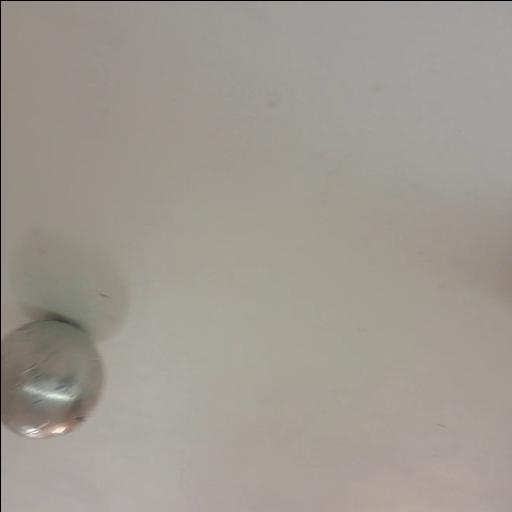alive: (0, 320, 107, 440)
